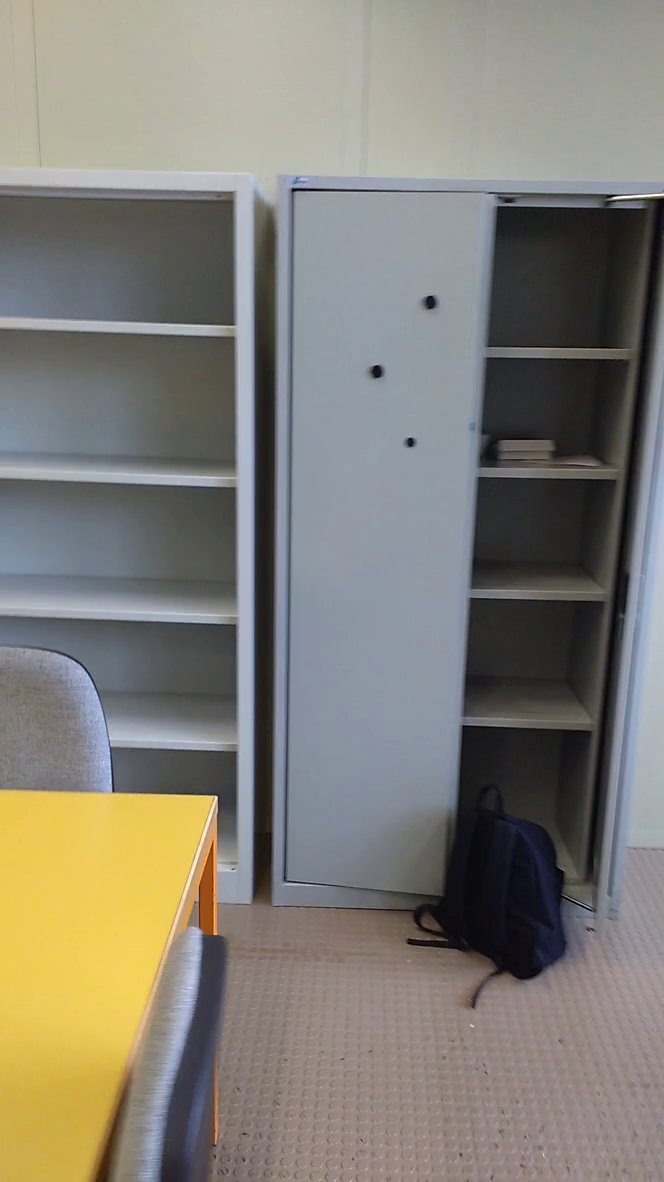bag: (409, 774, 582, 989)
chair: (96, 906, 271, 1182)
